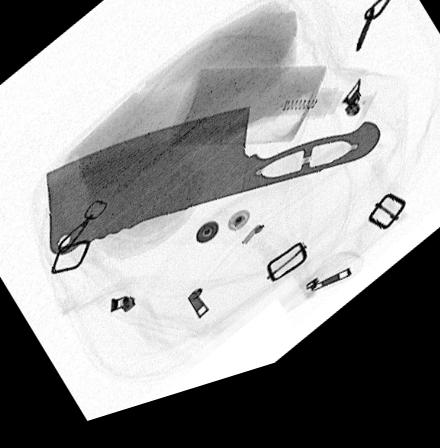Knife: (46, 122, 380, 259)
